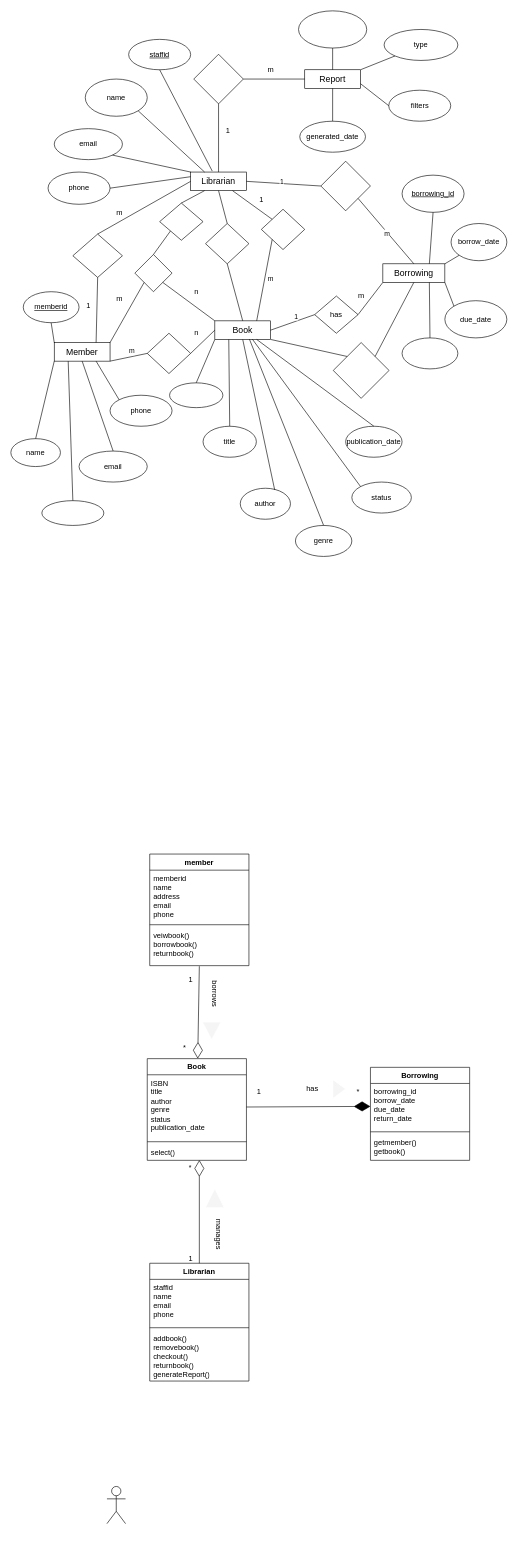
The diagram is 518 pixels wide and 1548 high, and some of its shapes have lost their labels. Here are the shapes that lost their labels. From the top down, the centre of each, then its label:
At point (332, 29): "report_id".
At point (218, 79): "generates".
At point (345, 186): "checks_out".
At point (181, 221): "removes".
At point (283, 229): "returns".
At point (97, 255): "is_given_ books_by".
At point (227, 243): "adds".
At point (153, 273): "borrow".
At point (169, 353): "views".
At point (361, 370): "associates_ with".
At point (429, 353): "return_date".
At point (196, 395): "ISBN".
At point (72, 512): "address".
At point (116, 1505): "Actor".
